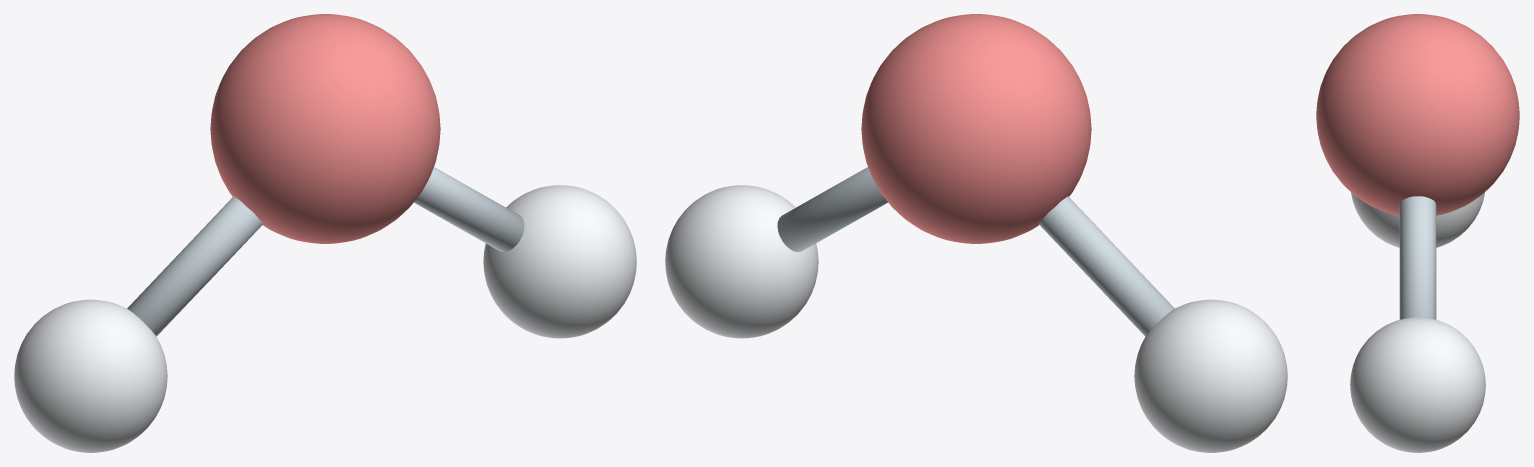
The model's file is water.glb.
The picture shows the model from 3 angles, left to right: view 1: azimuth 30°, elevation 25°; view 2: azimuth 150°, elevation 25°; view 3: azimuth 270°, elevation 25°; orthographic projection. The views are drawn at different scales.
Visible parts, largest first — view 1: O, H.001, H, bond.001, bond; view 2: O, H.001, H, bond.001, bond; view 3: O, H, bond, H.001.
Part boxes in pixels (bbox=[...]): O: bbox=[210, 14, 440, 243]; H.001: bbox=[14, 299, 167, 452]; H: bbox=[483, 185, 636, 338]; bond.001: bbox=[127, 196, 262, 336]; bond: bbox=[414, 167, 524, 251]; O: bbox=[861, 14, 1091, 243]; H.001: bbox=[1134, 299, 1287, 452]; H: bbox=[665, 185, 818, 338]; bond.001: bbox=[1039, 196, 1174, 336]; bond: bbox=[777, 167, 887, 251]; O: bbox=[1316, 14, 1519, 215]; H: bbox=[1350, 317, 1485, 452]; bond: bbox=[1399, 196, 1436, 319]; H.001: bbox=[1351, 192, 1484, 247].
Size of the model in its own units: 2.54 by 1.47 by 0.84.
